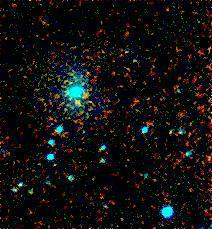star: (62, 87, 92, 117)
